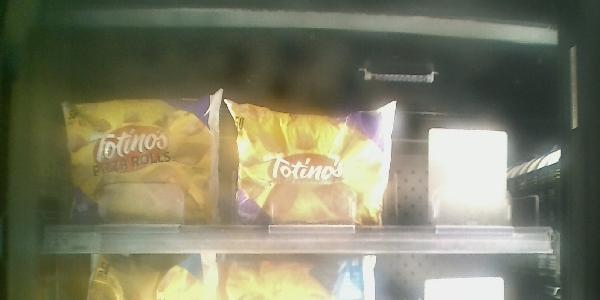icecream: (223, 94, 400, 299), (57, 88, 220, 296)
